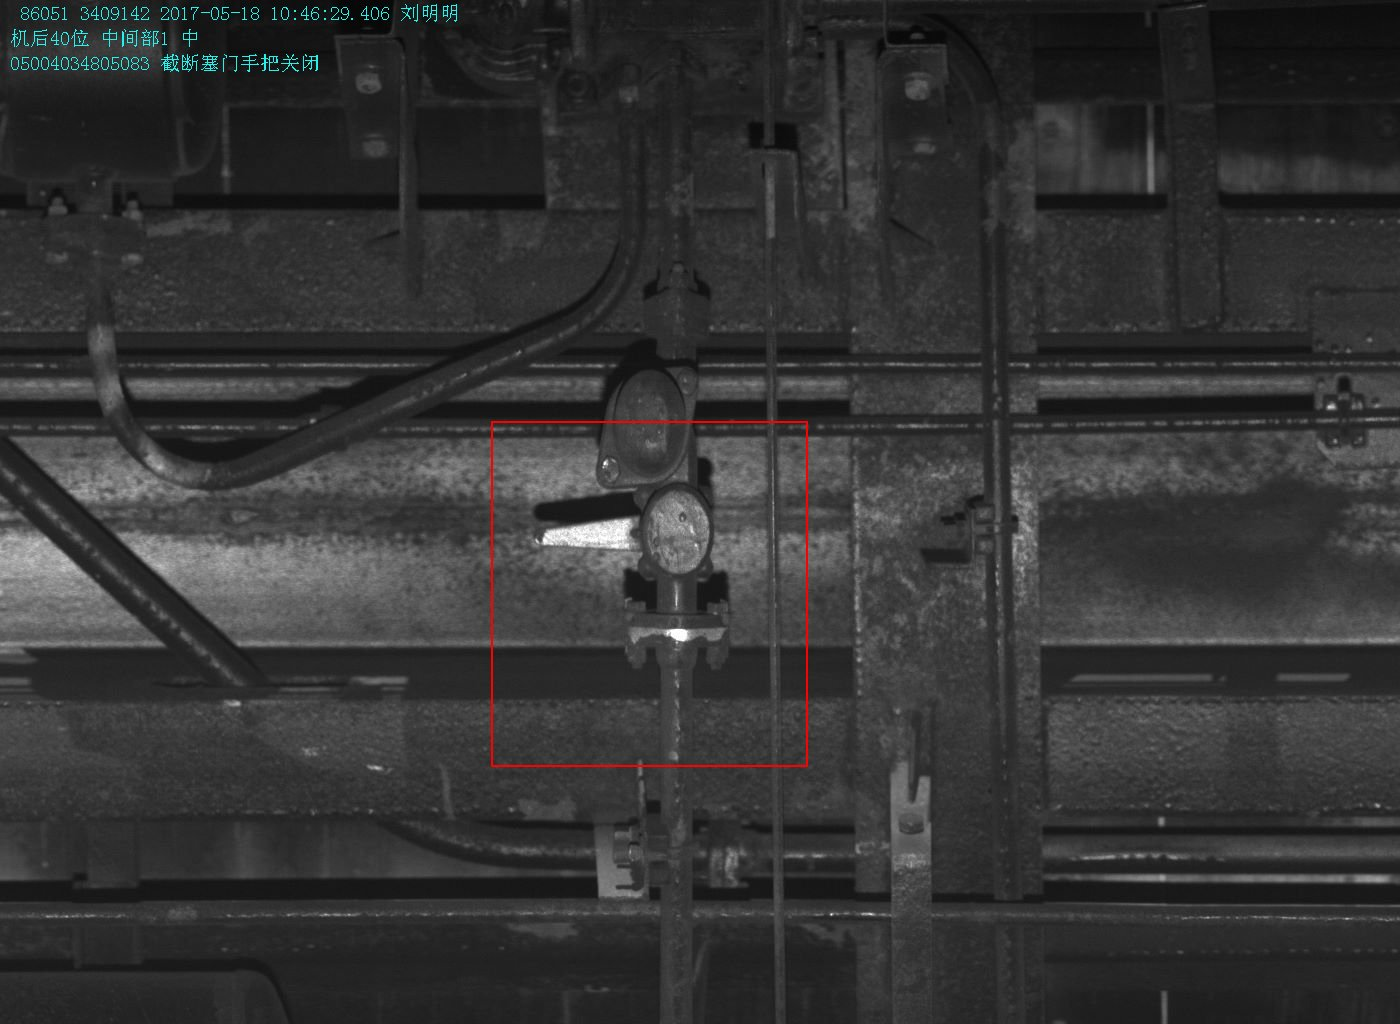truncated plug door handle: (532, 480, 715, 582)
